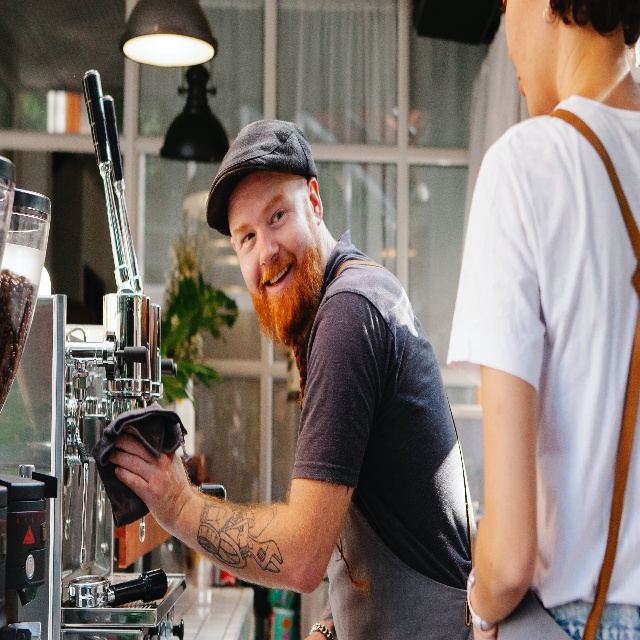Sin_guantes: (108, 430, 189, 535)
